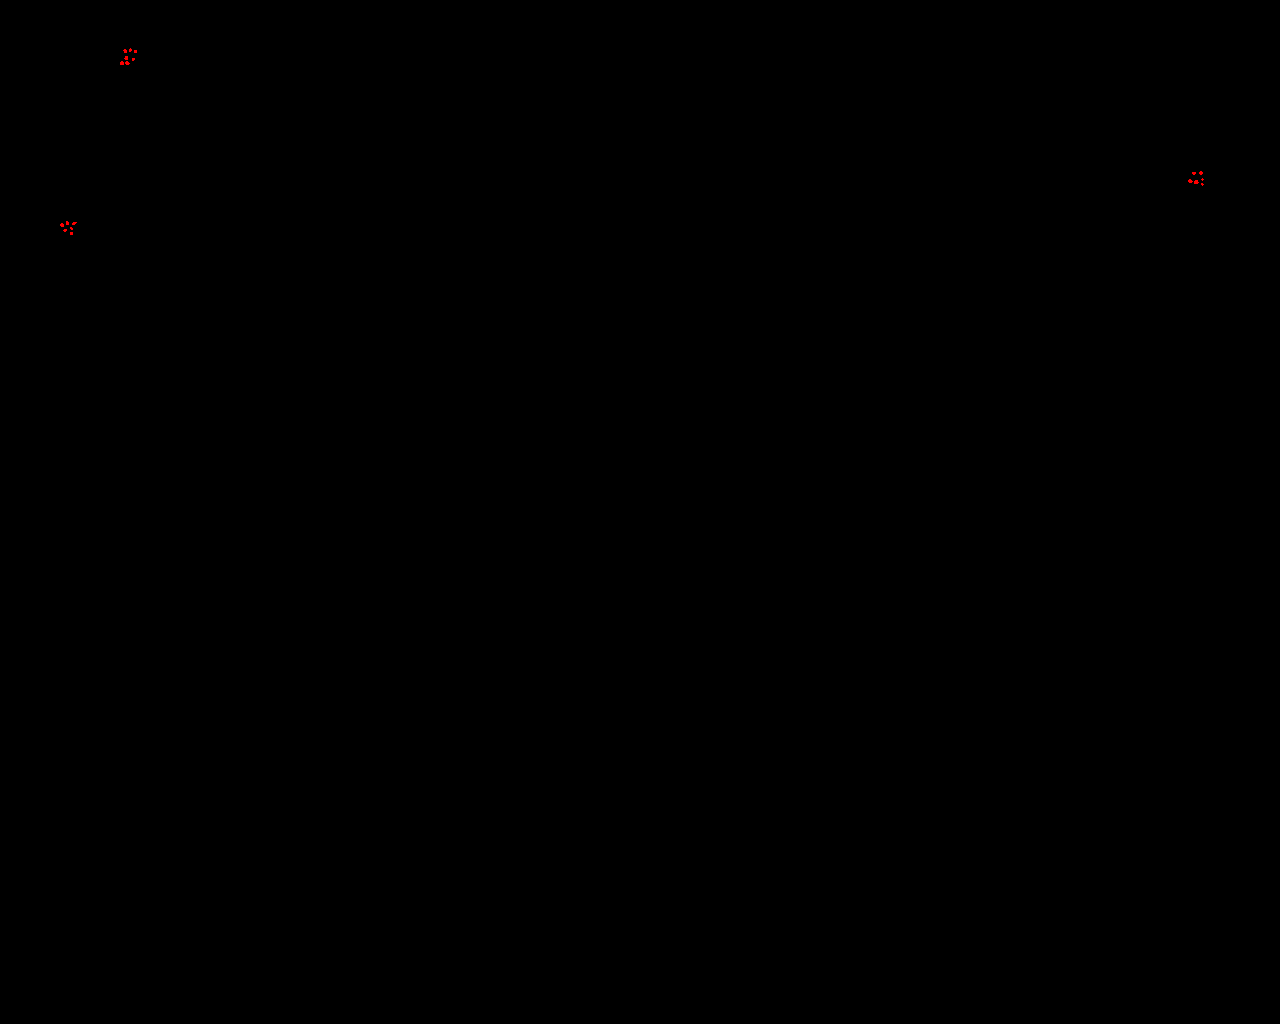Target: (1188, 179, 1193, 183), (123, 49, 127, 53), (120, 61, 124, 65), (125, 61, 130, 65), (1194, 180, 1198, 184), (60, 223, 64, 227), (72, 222, 77, 225), (129, 48, 132, 52), (1198, 171, 1203, 174), (63, 229, 67, 232), (134, 50, 137, 53), (124, 56, 127, 60), (1201, 178, 1204, 181), (1201, 183, 1204, 186), (66, 222, 69, 225), (70, 227, 73, 230), (70, 232, 73, 235), (1192, 172, 1196, 174), (132, 59, 135, 61)
